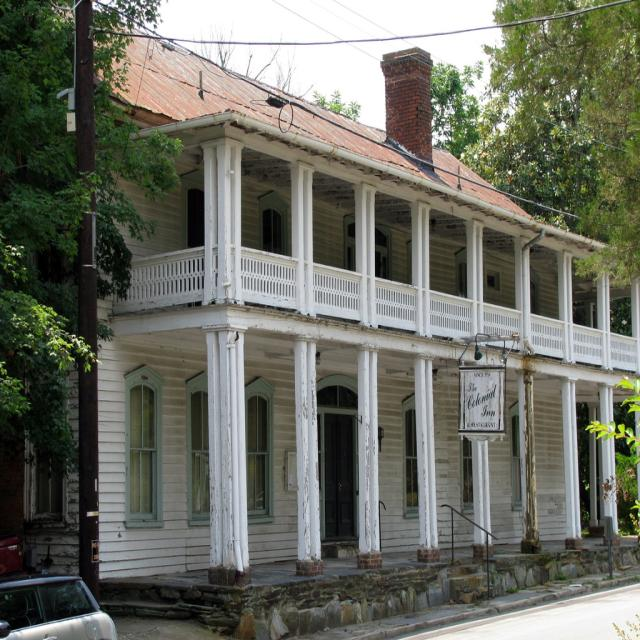car: (0, 559, 104, 638)
